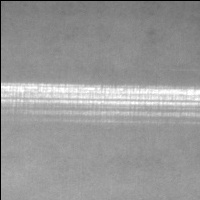scratches: (2, 81, 200, 116)
